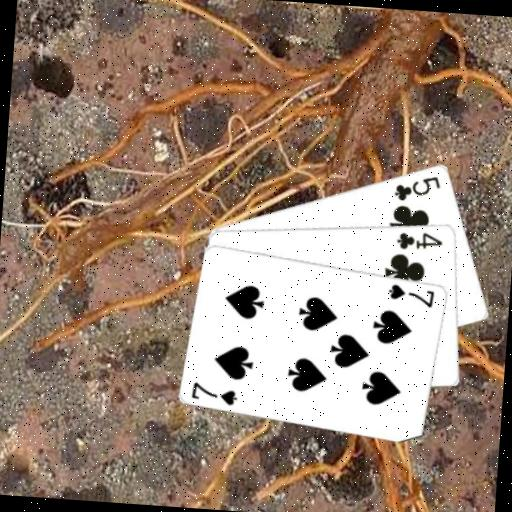4C: (394, 227, 446, 253)
5C: (391, 170, 443, 205)
7S: (385, 280, 437, 309), (188, 379, 240, 408)
